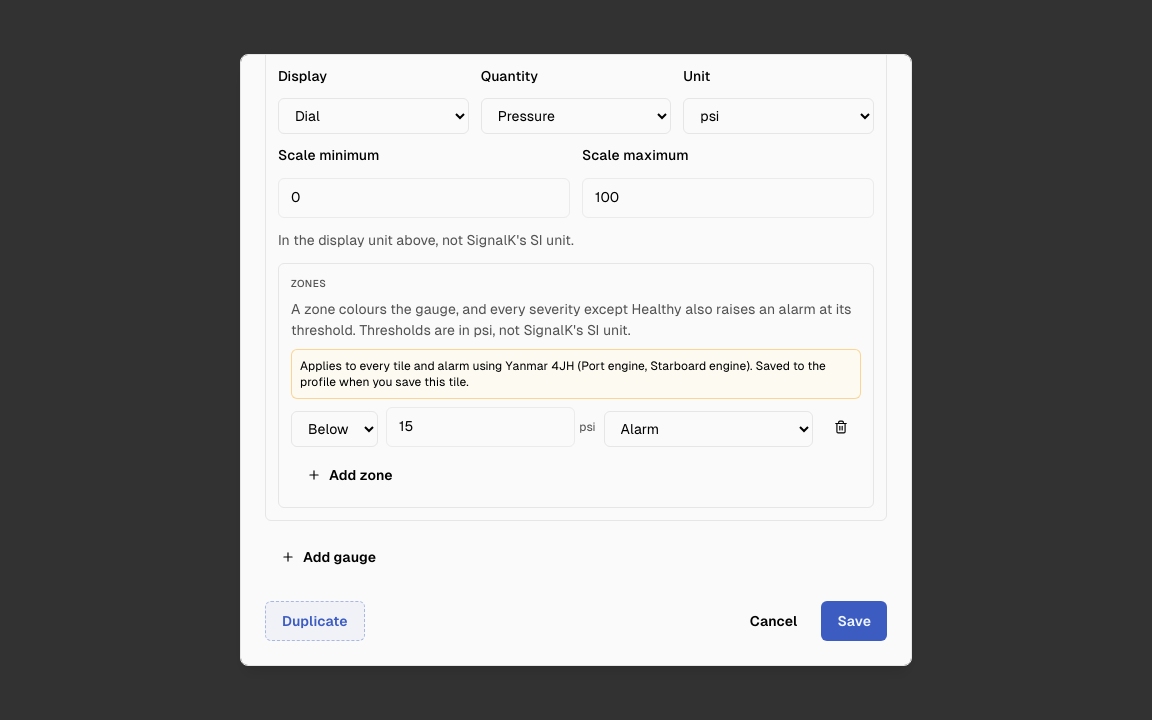
Test: GaugeGroupConfigDialog › a group that shows equipment (ADR 0187) › a failed profile save keeps the dialog open and says why
(page scrolled)
Replace the text in the number field named "Zone 1 threshold" with "25". click: (481, 426)
box: [386,406,575,446]
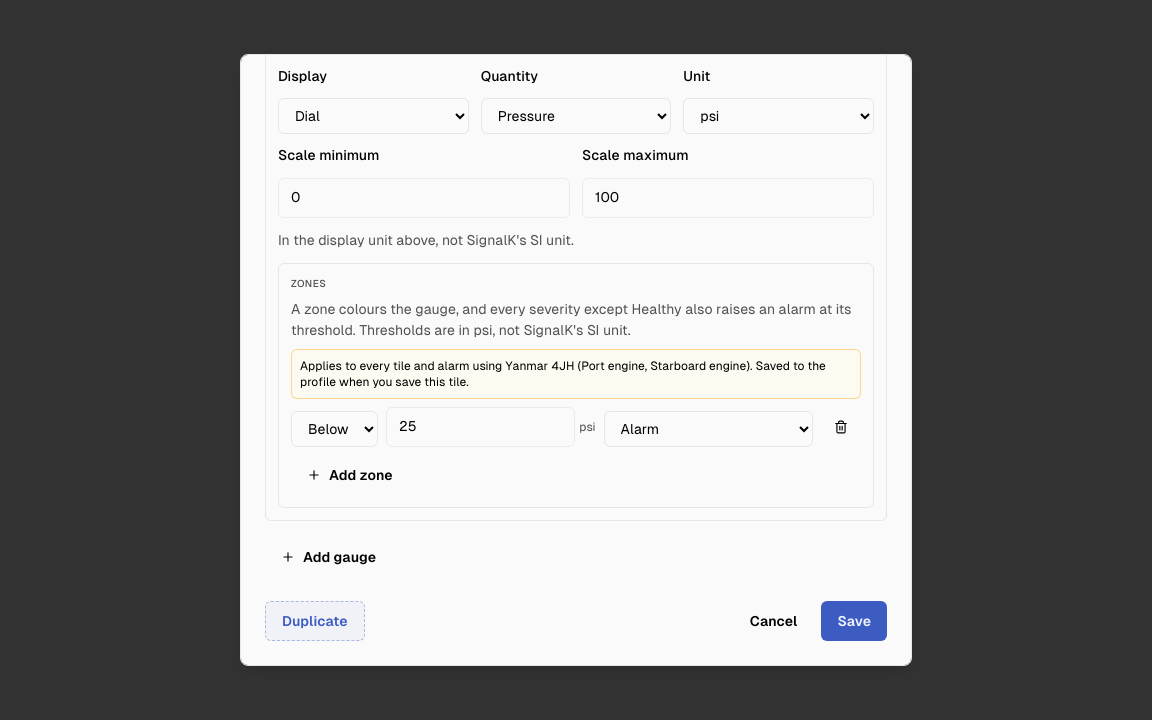
Click the button "Save". click: (854, 620)
box: [821,600,887,640]
(page scrolled)
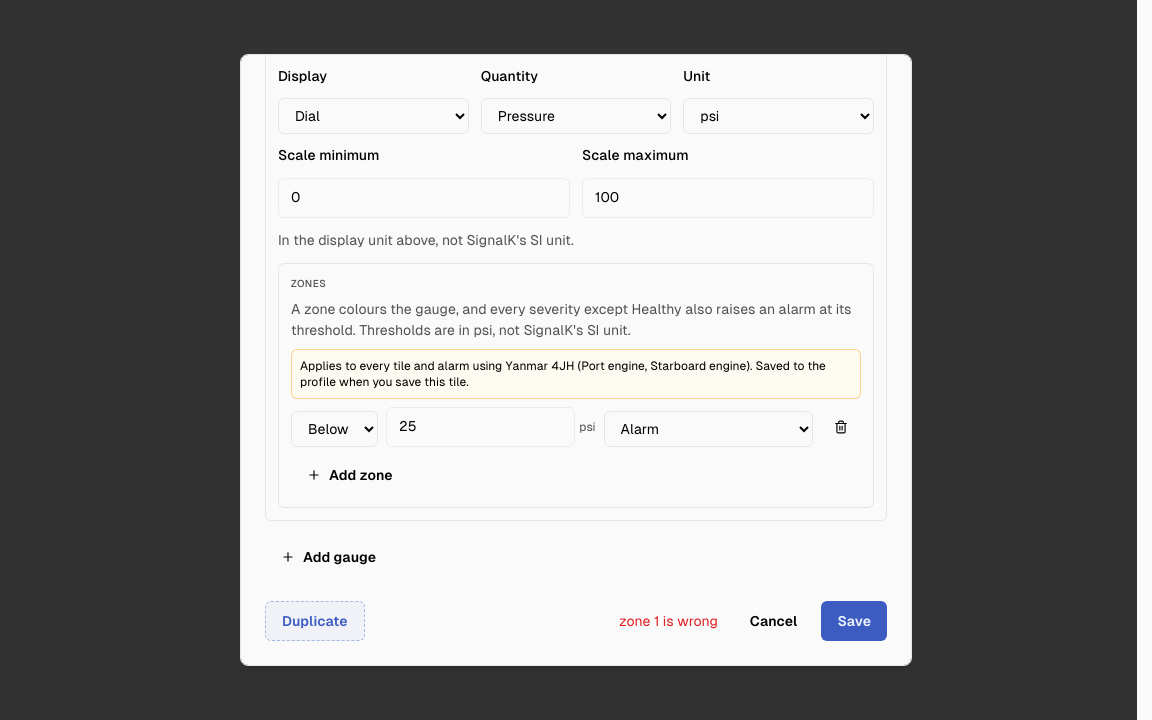
expect the message reads "zone 1 is wrong": met, box [619,612,718,628]
